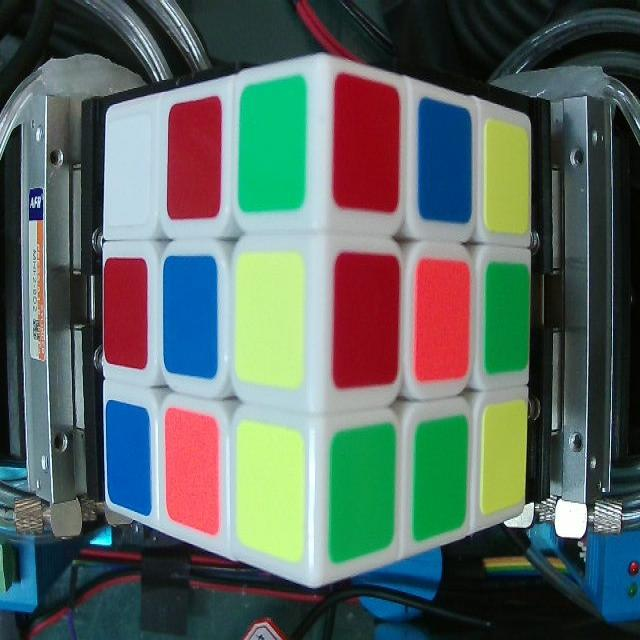b: (420, 101, 472, 221), (166, 260, 216, 372), (106, 401, 150, 513)
g: (242, 92, 302, 202), (331, 439, 394, 541), (416, 416, 467, 534), (488, 268, 530, 372)
o: (419, 260, 467, 376), (170, 412, 217, 528)
r: (338, 80, 394, 207), (339, 255, 395, 379), (170, 108, 218, 214), (105, 259, 146, 362)
w: (109, 126, 150, 219)
y: (239, 425, 301, 555), (240, 260, 300, 386), (482, 401, 525, 506), (486, 135, 529, 230)
